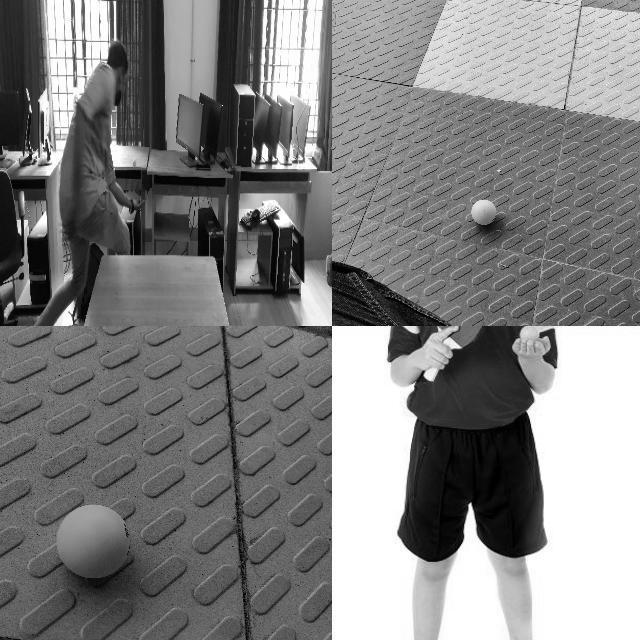ping-pong-ball: (56, 502, 130, 578), (472, 200, 496, 226), (521, 326, 538, 343), (132, 158, 136, 168)
